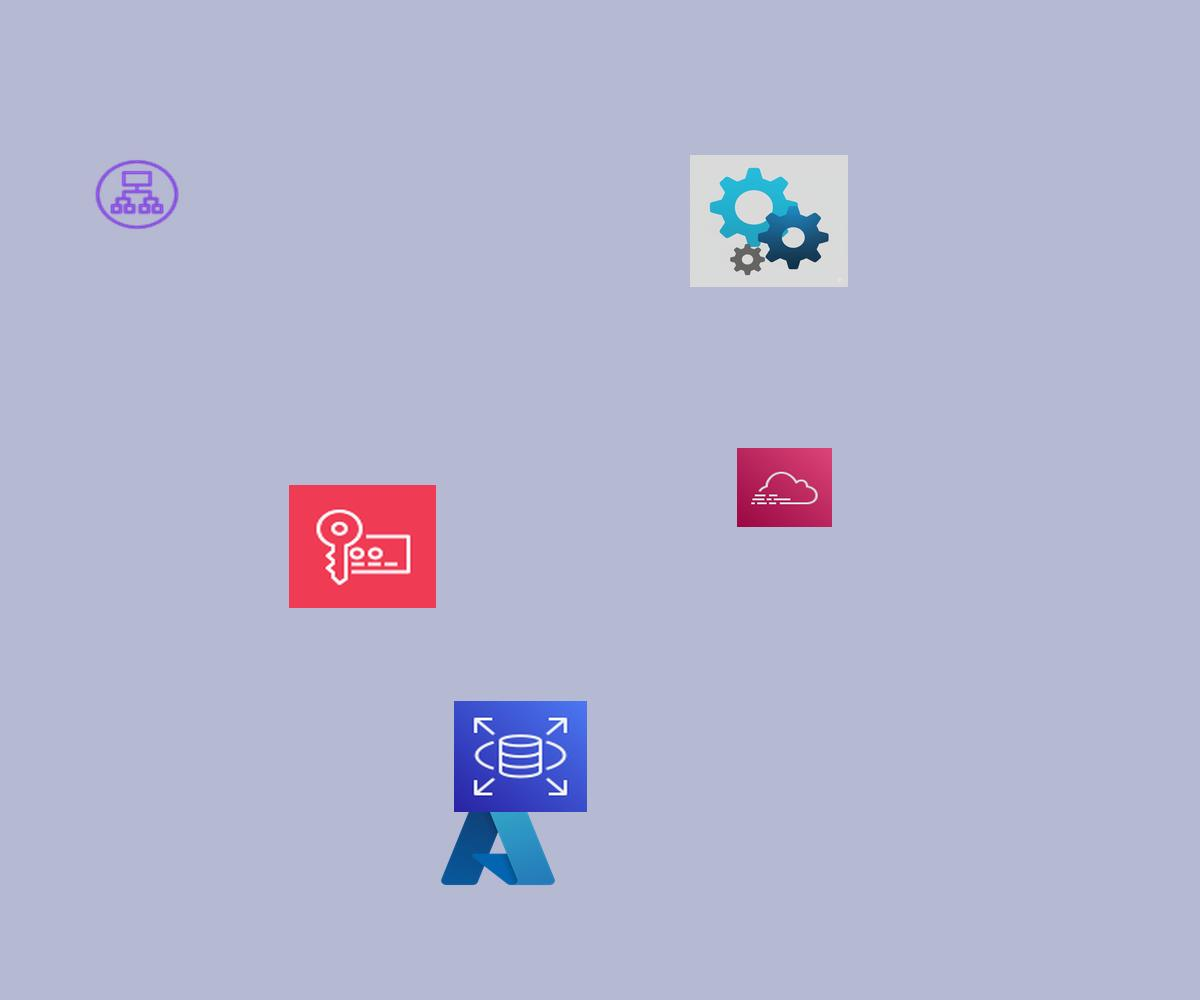AWS-CloudTrail: (737, 448, 832, 527)
AWS-Key-Management-Service: (289, 485, 436, 608)
AWS-RDS: (454, 701, 587, 812)
AWS-Res_Elastic-Load-Balancing_Application-Load-Balancer: (92, 157, 182, 232)
Azure_api: (690, 155, 848, 287)
Azure_services: (436, 789, 560, 892)
